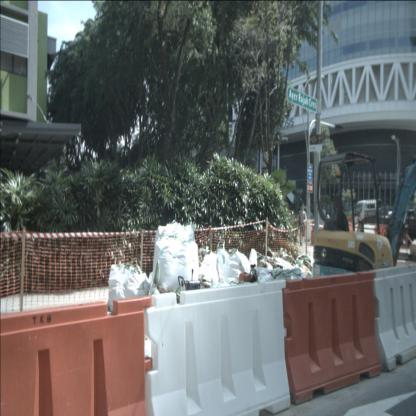barrier: (144, 280, 290, 416), (0, 296, 153, 416), (281, 271, 381, 404), (369, 269, 415, 373)
